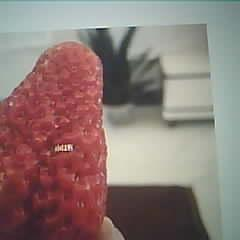straw-ripe: (0, 42, 107, 240)
